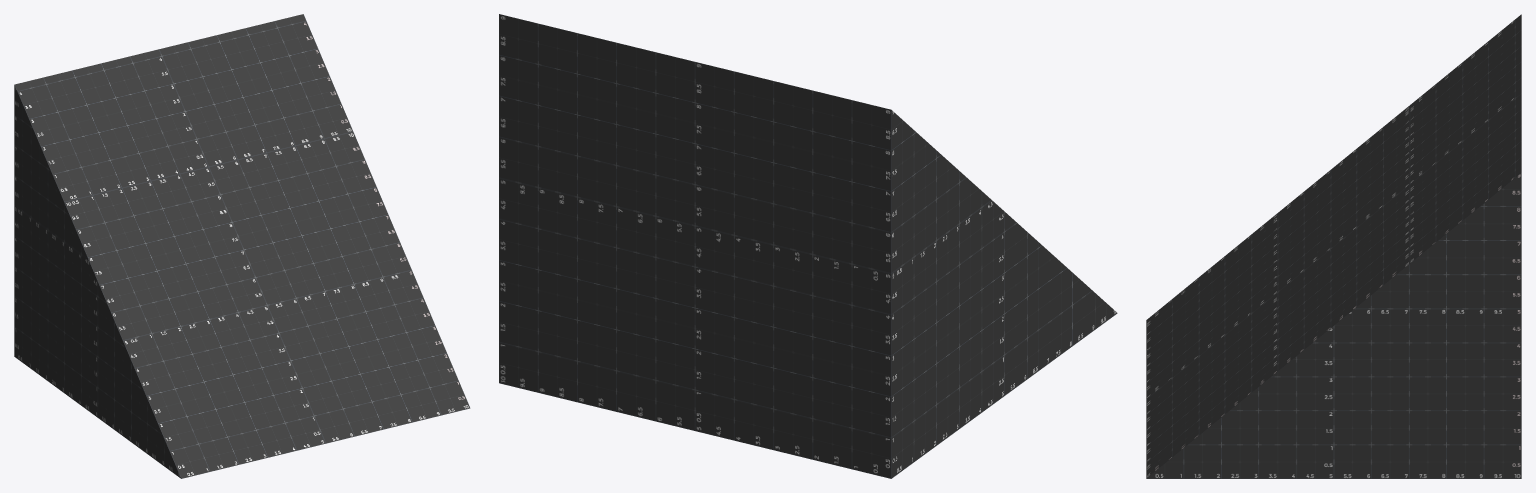
The model's file is WedgeFloor_09.fbx.
3 renders of one model, left to right at view 1: azimuth 30°, elevation 25°; view 2: azimuth 150°, elevation 25°; view 3: azimuth 270°, elevation 25°, orthographic. The views are drawn at different scales.
Parts seen in each view (by area): view 1: WedgeFloor_09; view 2: WedgeFloor_09; view 3: WedgeFloor_09.
Part boxes in pixels (box(x1,y1,x2,y2)): WedgeFloor_09: box(14, 14, 470, 478); WedgeFloor_09: box(499, 14, 1117, 478); WedgeFloor_09: box(1146, 14, 1521, 478).
Bounding box in the file's own units: 10 × 9 × 10.
